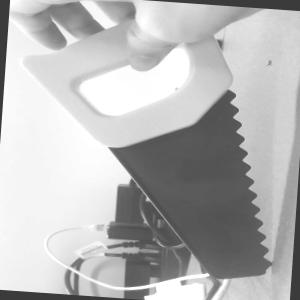serrote: (5, 26, 288, 282)
